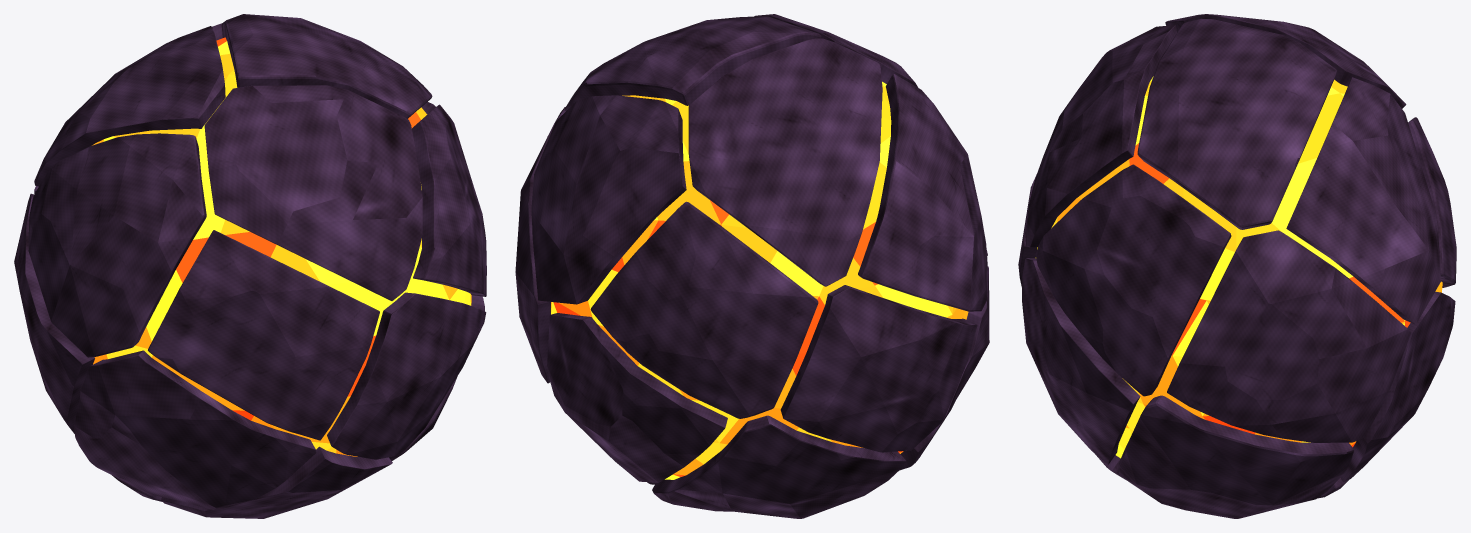
Rendered from fireball.glb.
3 views of the same model, side by side, from view 1: azimuth 30°, elevation 25°; view 2: azimuth 150°, elevation 25°; view 3: azimuth 270°, elevation 25° (orthographic).
Visible parts, largest first — view 1: Comet | fractured basalt and lava; view 2: Comet | fractured basalt and lava; view 3: Comet | fractured basalt and lava.
Boxes of the visible parts, box(x1,y1,x2,y2) form: Comet | fractured basalt and lava: box(14, 14, 486, 518); Comet | fractured basalt and lava: box(515, 14, 989, 518); Comet | fractured basalt and lava: box(1018, 14, 1456, 518).
Bounding box in the file's own units: 1.98 × 2.11 × 1.79.
4 materials, 1 textured.
